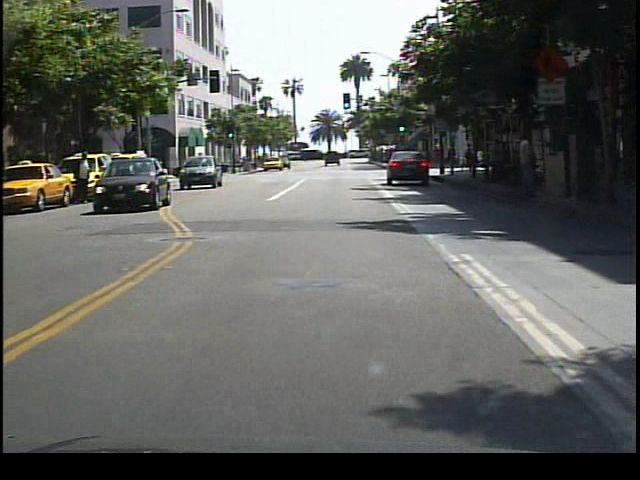person: (514, 130, 542, 204), (76, 148, 97, 207)
